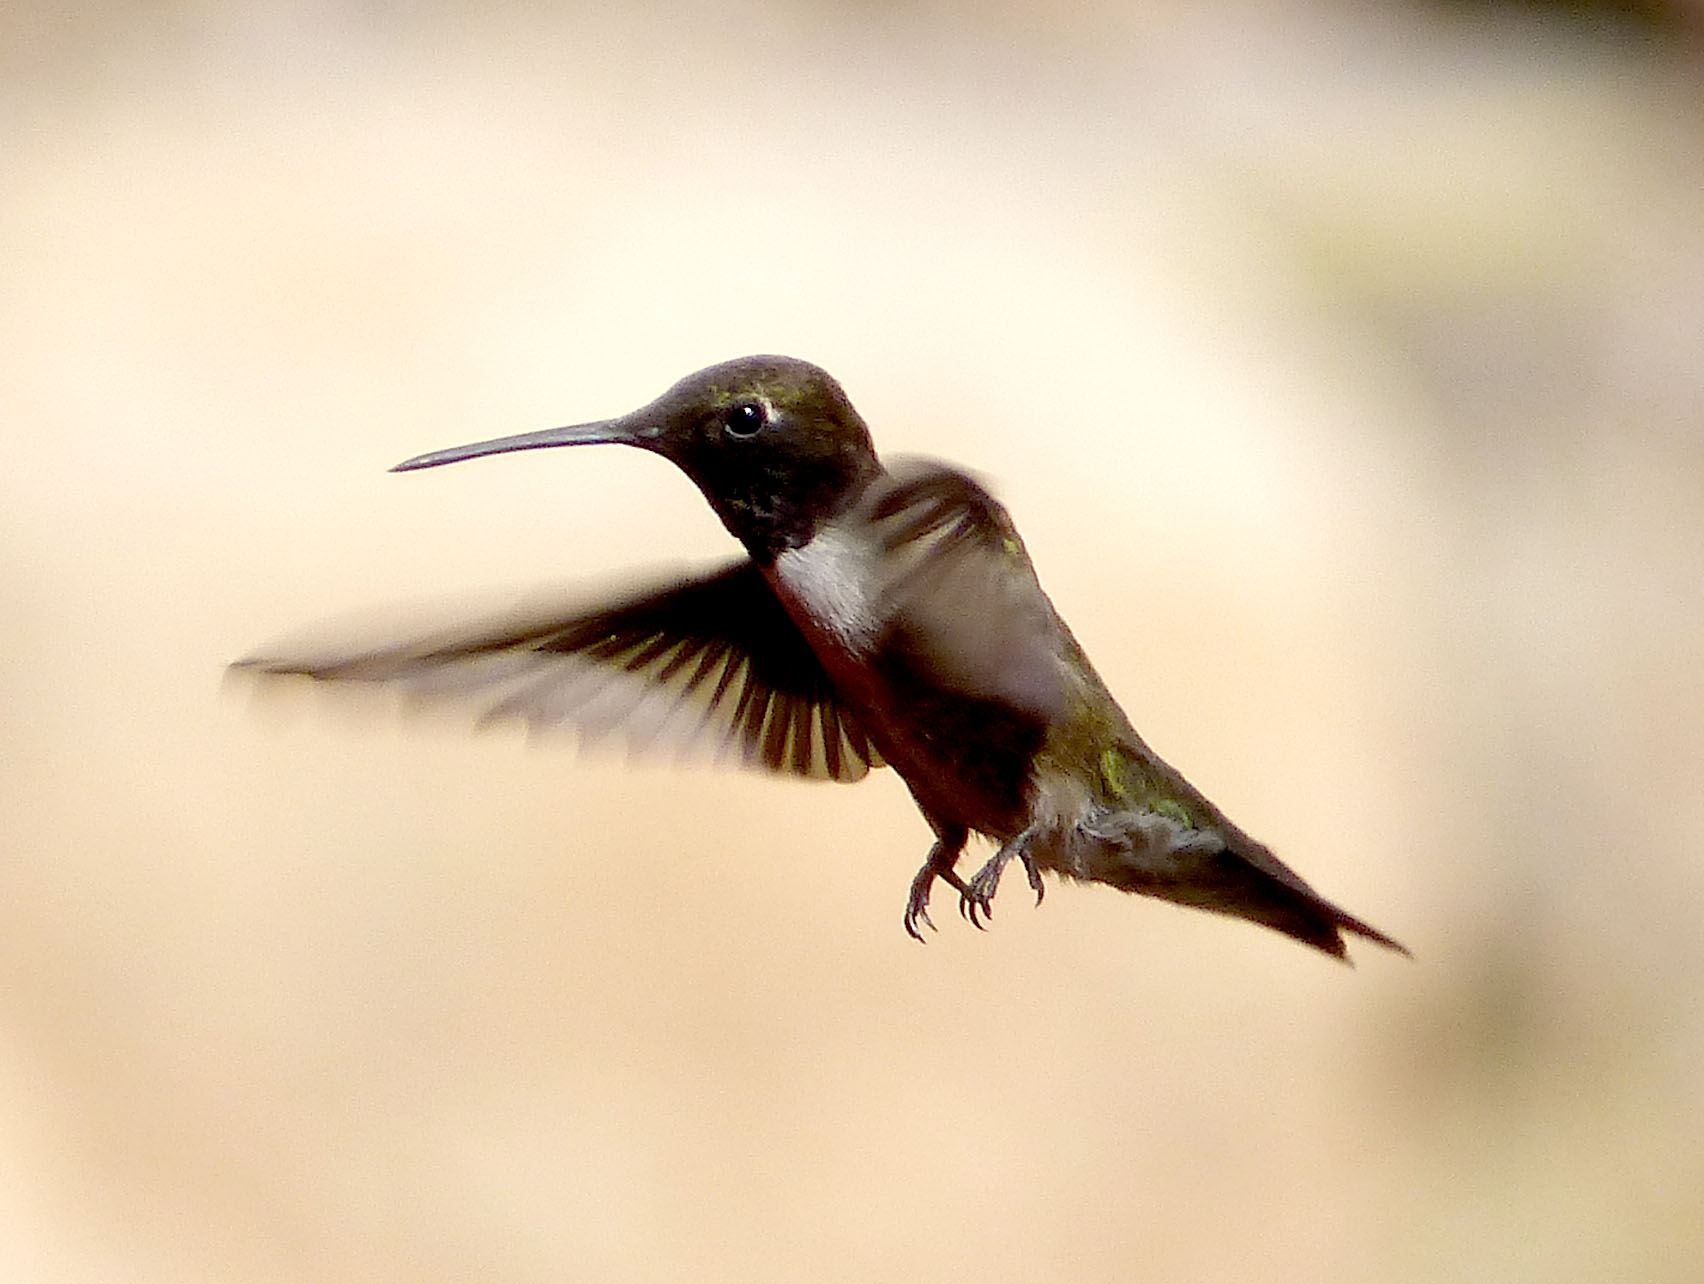archilochus alexandri: (209, 345, 1409, 978)
